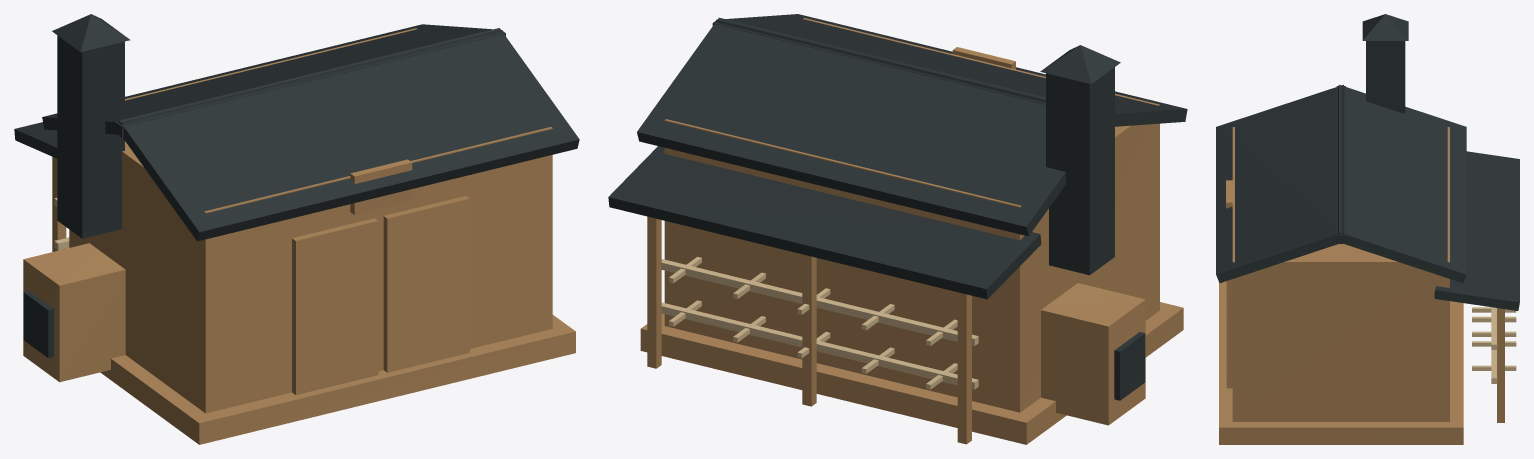
Rendered from Fish-smokehouse.glb.
3 renders of one model, left to right at view 1: azimuth 30°, elevation 25°; view 2: azimuth 150°, elevation 25°; view 3: azimuth 270°, elevation 25°, orthographic. The views are drawn at different scales.
Parts seen in each view (by area): view 1: fish-smokehouse-static-fish-smokehouse-charcoal-roof-chimney, fish-smokehouse-static-fish-smokehouse-warm-timber-walls, fish-smokehouse-static-fish-smokehouse-muted-teal-doors-vent, fish-smokehouse-static-fish-smokehouse-pale-foundation-fireb; view 2: fish-smokehouse-static-fish-smokehouse-charcoal-roof-chimney, fish-smokehouse-static-fish-smokehouse-warm-timber-walls, fish-smokehouse-static-fish-smokehouse-pale-foundation-fireb, fish-smokehouse-static-fish-smokehouse-cream-empty-drying-ra; view 3: fish-smokehouse-static-fish-smokehouse-charcoal-roof-chimney, fish-smokehouse-static-fish-smokehouse-warm-timber-walls, fish-smokehouse-static-fish-smokehouse-pale-foundation-fireb, fish-smokehouse-static-fish-smokehouse-cream-empty-drying-ra, fish-smokehouse-static-fish-smokehouse-muted-teal-doors-vent.
Boxes of the visible parts, left/top/right/bottom form: fish-smokehouse-static-fish-smokehouse-charcoal-roof-chimney: left=14, top=14, right=579, bottom=357; fish-smokehouse-static-fish-smokehouse-warm-timber-walls: left=52, top=28, right=552, bottom=413; fish-smokehouse-static-fish-smokehouse-muted-teal-doors-vent: left=292, top=159, right=469, bottom=394; fish-smokehouse-static-fish-smokehouse-pale-foundation-fireb: left=23, top=243, right=575, bottom=444; fish-smokehouse-static-fish-smokehouse-charcoal-roof-chimney: left=608, top=14, right=1187, bottom=400; fish-smokehouse-static-fish-smokehouse-warm-timber-walls: left=647, top=18, right=1159, bottom=444; fish-smokehouse-static-fish-smokehouse-pale-foundation-fireb: left=640, top=283, right=1183, bottom=444; fish-smokehouse-static-fish-smokehouse-cream-empty-drying-ra: left=661, top=257, right=978, bottom=389; fish-smokehouse-static-fish-smokehouse-charcoal-roof-chimney: left=1216, top=14, right=1519, bottom=310; fish-smokehouse-static-fish-smokehouse-warm-timber-walls: left=1232, top=127, right=1504, bottom=422; fish-smokehouse-static-fish-smokehouse-pale-foundation-fireb: left=1219, top=281, right=1463, bottom=444; fish-smokehouse-static-fish-smokehouse-cream-empty-drying-ra: left=1472, top=307, right=1516, bottom=383; fish-smokehouse-static-fish-smokehouse-muted-teal-doors-vent: left=1226, top=180, right=1232, bottom=388.
Bounding box in the file's own units: 5.92 × 4.6 × 4.47.
